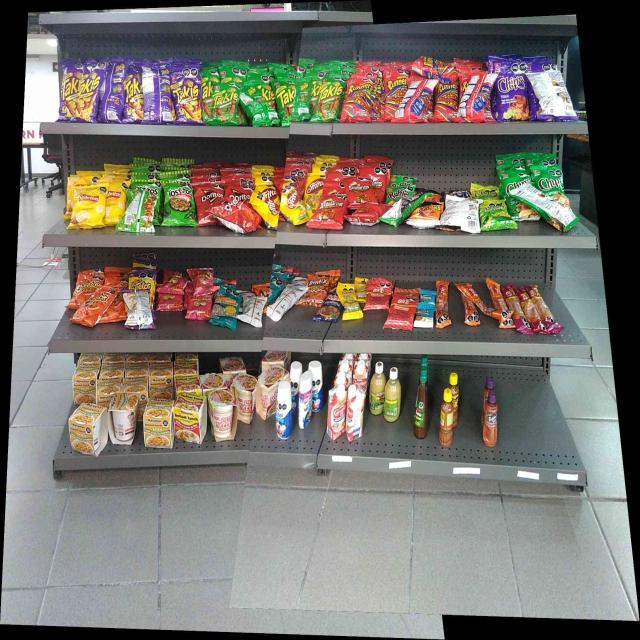bitzAlmendras: (416, 308, 434, 328), (419, 290, 435, 305)
bitzEnchilado90: (392, 292, 414, 330), (366, 279, 390, 310)
bitzEnchilado95: (436, 278, 449, 326), (456, 281, 483, 300), (486, 277, 503, 305), (464, 304, 478, 326)
bitzHabanero: (514, 283, 558, 336)
bokadosCacahuates: (317, 305, 341, 323)
botaneraChilito: (438, 389, 453, 446)
cheetosFlaminHot: (130, 270, 154, 290)
cheetosOriginal: (77, 297, 108, 323), (77, 272, 98, 294)
chipsFuego: (490, 57, 527, 120)
chipsJalapeno: (531, 167, 563, 194), (514, 202, 532, 221)
chipsPapatinas: (481, 198, 512, 230)
churrumais: (187, 298, 211, 320), (194, 269, 215, 292), (158, 293, 182, 311)
delPrimoSalsa: (386, 366, 400, 422), (369, 363, 384, 415)
doritosNacho: (194, 182, 223, 222), (225, 208, 254, 233), (224, 183, 255, 206)
fritosLimon: (256, 184, 279, 226), (282, 184, 304, 222), (306, 173, 325, 194)
hotNutsOriginal: (413, 202, 441, 228)
leoMix: (304, 274, 328, 304)
maruchanPollo: (69, 403, 106, 454), (142, 397, 173, 448), (109, 392, 136, 444)
maruchanRes: (174, 393, 206, 443)
nestleCarnation: (327, 387, 346, 438), (346, 386, 363, 439)
nestleLechera: (298, 374, 311, 429), (278, 384, 291, 438), (313, 362, 322, 409)
nissinCamaron: (208, 391, 233, 442)
nissinRes: (234, 376, 254, 421), (257, 372, 275, 419)
productoAtras: (531, 73, 569, 120), (536, 198, 578, 231), (99, 64, 122, 122), (145, 66, 169, 121), (444, 196, 478, 234), (126, 198, 159, 234), (466, 74, 488, 122), (123, 291, 150, 329), (409, 81, 433, 122), (273, 285, 297, 318), (294, 78, 310, 122), (243, 83, 258, 127), (386, 202, 410, 227), (243, 295, 263, 325), (260, 109, 278, 126)
rancheritos: (316, 196, 344, 228), (346, 178, 376, 205)
rufflesQueso: (387, 186, 412, 199)
runners: (345, 76, 376, 122), (378, 70, 408, 116), (436, 81, 457, 125), (416, 59, 454, 80)
sabritasOriginal: (100, 178, 124, 222), (74, 188, 98, 228)
salsaBufalo: (414, 368, 427, 439)
semillasCalabaza: (343, 282, 362, 320)
semillasGirasol: (214, 294, 241, 329)
tajinDulce: (483, 391, 498, 446)
takisFuego: (170, 67, 200, 123), (124, 70, 143, 123), (80, 65, 98, 120), (62, 64, 79, 115)
takisOriginal: (312, 78, 340, 122), (220, 82, 242, 126), (202, 66, 218, 123), (280, 78, 293, 125), (259, 75, 278, 107)
tostitos: (164, 181, 192, 226), (132, 178, 161, 196)
